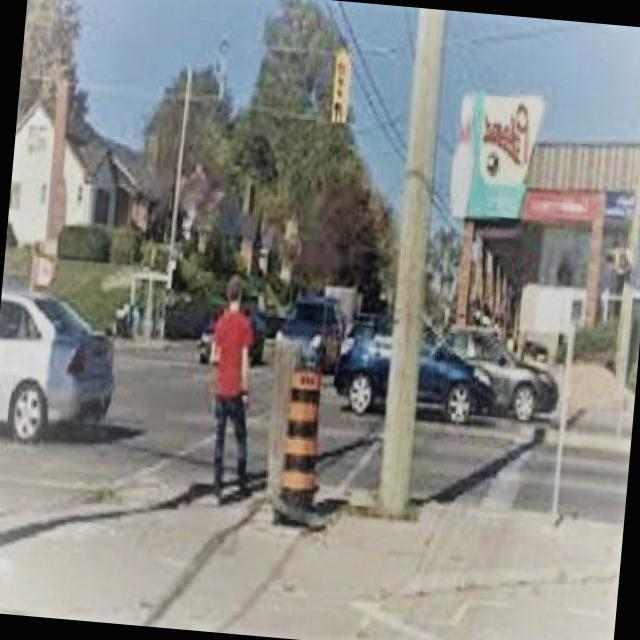Person: (201, 275, 272, 511)
